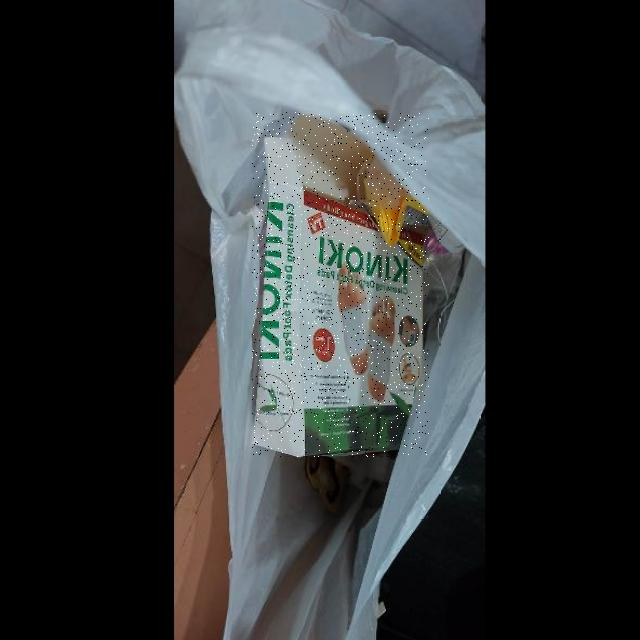paper: (252, 112, 429, 457)
